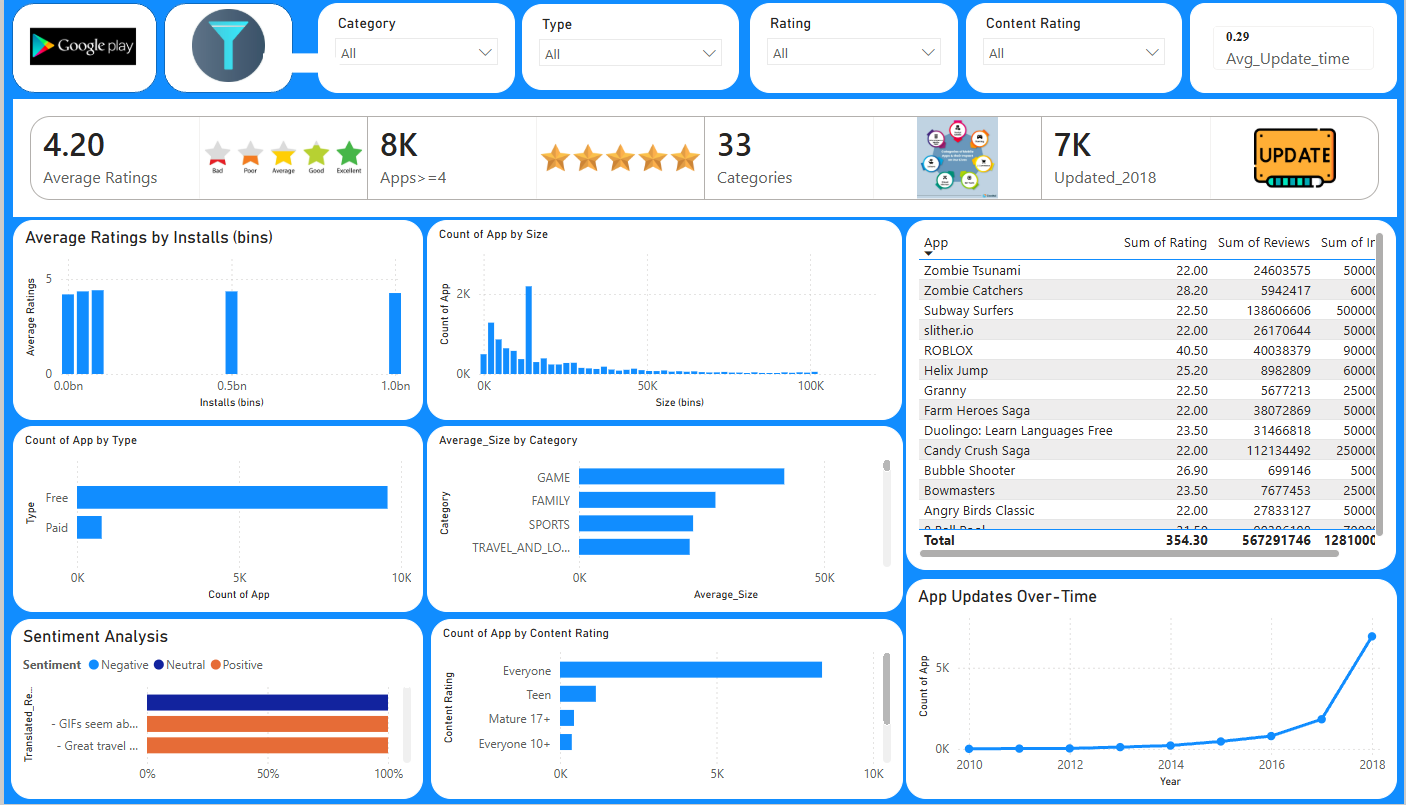

What the dashboard file says about the page in this screenshot:
{"tool":"powerbi","page":{"name":"DASHBOARD","canvas":[1400,800],"ordinal":0},"visuals":[{"type":"clusteredColumnChart","title":"Count of App by Size ","fields":{"Category":["Googlepalystore.Size (bins)"],"Y":["CountNonNull(Googlepalystore.App)"]},"box":[423.4,221.3,474.5,200],"z":0},{"type":"clusteredBarChart","fields":{"Category":["Googlepalystore.Type"],"Y":["CountNonNull(Googlepalystore.App)"]},"box":[8.5,426.6,410.6,186.2],"z":1000},{"type":"clusteredBarChart","fields":{"Category":["Googlepalystore.Content Rating"],"Y":["CountNonNull(Googlepalystore.App)"]},"box":[426.6,620.2,472.3,179.8],"z":2000},{"type":"clusteredBarChart","fields":{"Y":["Googlepalystore.Average_Size"],"Category":["Googlepalystore.Category"]},"box":[423.4,426.6,475.5,186.2],"z":5000},{"type":"slicer","fields":{"Values":["Googlepalystore.Category"]},"box":[313.8,4.3,196.8,89.4],"z":6000},{"type":"slicer","fields":{"Values":["Googlepalystore.Type"]},"box":[518.1,5.3,217,86.2],"z":7000},{"type":"slicer","fields":{"Values":["Googlepalystore.Rating"]},"box":[745.7,4.3,208.5,89.4],"z":8000},{"type":"slicer","fields":{"Values":["Googlepalystore.Content Rating"]},"box":[961.7,4.3,216,89.4],"z":9000},{"type":"shape","box":[7.9,3.9,144.8,89.7],"z":10000},{"type":"image","box":[7.9,15.8,141.9,61.1],"z":11000},{"type":"shape","box":[159.6,3.9,129.1,89.7],"z":12000},{"type":"image","box":[183.3,9.9,82.8,72.9],"z":13000},{"type":"shape","box":[259.1,45.3,77.8,37.4],"z":14000},{"type":"cardVisual","fields":{"Data":["Googlepalystore.Average Ratings","Googlepalystore.Rating_Above_4","Googlepalystore.Unique Category","Googlepalystore.Apps Updated_2018"]},"box":[8.5,100,1384,118.1],"z":15000},{"type":"lineChart","title":"App Updates Over-Time","fields":{"Category":["Googlepalystore.Last Updated.Variation.Date Hierarchy.Year","Googlepalystore.Last Updated.Variation.Date Hierarchy.Quarter","Googlepalystore.Last Updated.Variation.Date Hierarchy.Month","Googlepalystore.Last Updated.Variation.Date Hierarchy.Day"],"Y":["CountNonNull(Googlepalystore.App)"]},"box":[910.6,579.8,489.4,220.2],"z":16000},{"type":"tableEx","fields":{"Values":["Googlepalystore.App","Sum(Googlepalystore.Rating)","Sum(Googlepalystore.Reviews)","Sum(Googlepalystore.Installs)"]},"box":[902.1,221.3,497.9,350],"z":17000},{"type":"hundredPercentStackedBarChart","title":"Sentiment Analysis","fields":{"Series":["googleplaystore_user_reviews.Sentiment"],"Y":["CountNonNull(Googleplaystore.Rating Group)"],"Category":["googleplaystore_user_reviews.Translated_Review"]},"box":[7.4,620.2,411.7,179.8],"z":17001},{"type":"clusteredColumnChart","title":"Average Ratings by Installs (bins)","fields":{"Y":["Googlepalystore.Average Ratings"],"Category":["Googlepalystore.Installs (bins)"]},"box":[8.5,221.3,410.6,200],"z":17002},{"type":"cardVisual","fields":{"Data":["Googlepalystore.Average_Update_time"]},"box":[1186.2,4.3,206.4,89.4],"z":17003}]}

Visuals, with their boxes in screenshot pixels (x1, y1, x2, y2), scaled from the page's 1400x800 canvas onto the 1406x805 screenshot:
"Count of App by Size " clusteredColumnChart: select_region(425, 223, 902, 424)
clusteredBarChart - Googlepalystore.Type x CountNonNull(Googlepalystore.App): select_region(9, 429, 421, 617)
clusteredBarChart - Googlepalystore.Content Rating x CountNonNull(Googlepalystore.App): select_region(428, 624, 903, 804)
clusteredBarChart - Googlepalystore.Average_Size x Googlepalystore.Category: select_region(425, 429, 903, 617)
slicer - Googlepalystore.Category: select_region(315, 4, 513, 94)
slicer - Googlepalystore.Type: select_region(520, 5, 738, 92)
slicer - Googlepalystore.Rating: select_region(749, 4, 958, 94)
slicer - Googlepalystore.Content Rating: select_region(966, 4, 1183, 94)
shape: select_region(8, 4, 153, 94)
image: select_region(8, 16, 150, 77)
shape: select_region(160, 4, 290, 94)
image: select_region(184, 10, 267, 83)
shape: select_region(260, 46, 338, 83)
cardVisual - Googlepalystore.Average Ratings x Googlepalystore.Rating_Above_4: select_region(9, 101, 1398, 219)
"App Updates Over-Time" lineChart: select_region(915, 583, 1405, 804)
tableEx - Googlepalystore.App x Sum(Googlepalystore.Rating): select_region(906, 223, 1405, 575)
"Sentiment Analysis" hundredPercentStackedBarChart: select_region(7, 624, 421, 804)
"Average Ratings by Installs (bins)" clusteredColumnChart: select_region(9, 223, 421, 424)
cardVisual - Googlepalystore.Average_Update_time: select_region(1191, 4, 1399, 94)
